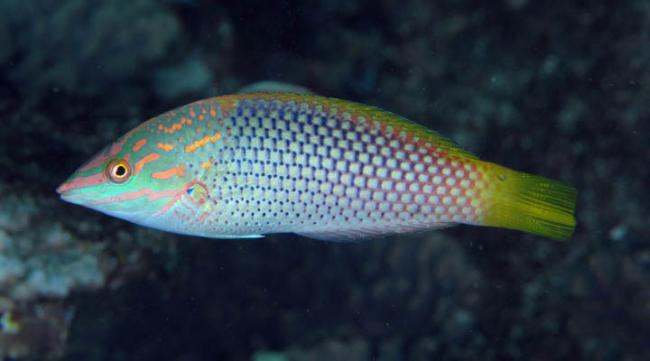fish: (56, 90, 579, 243)
